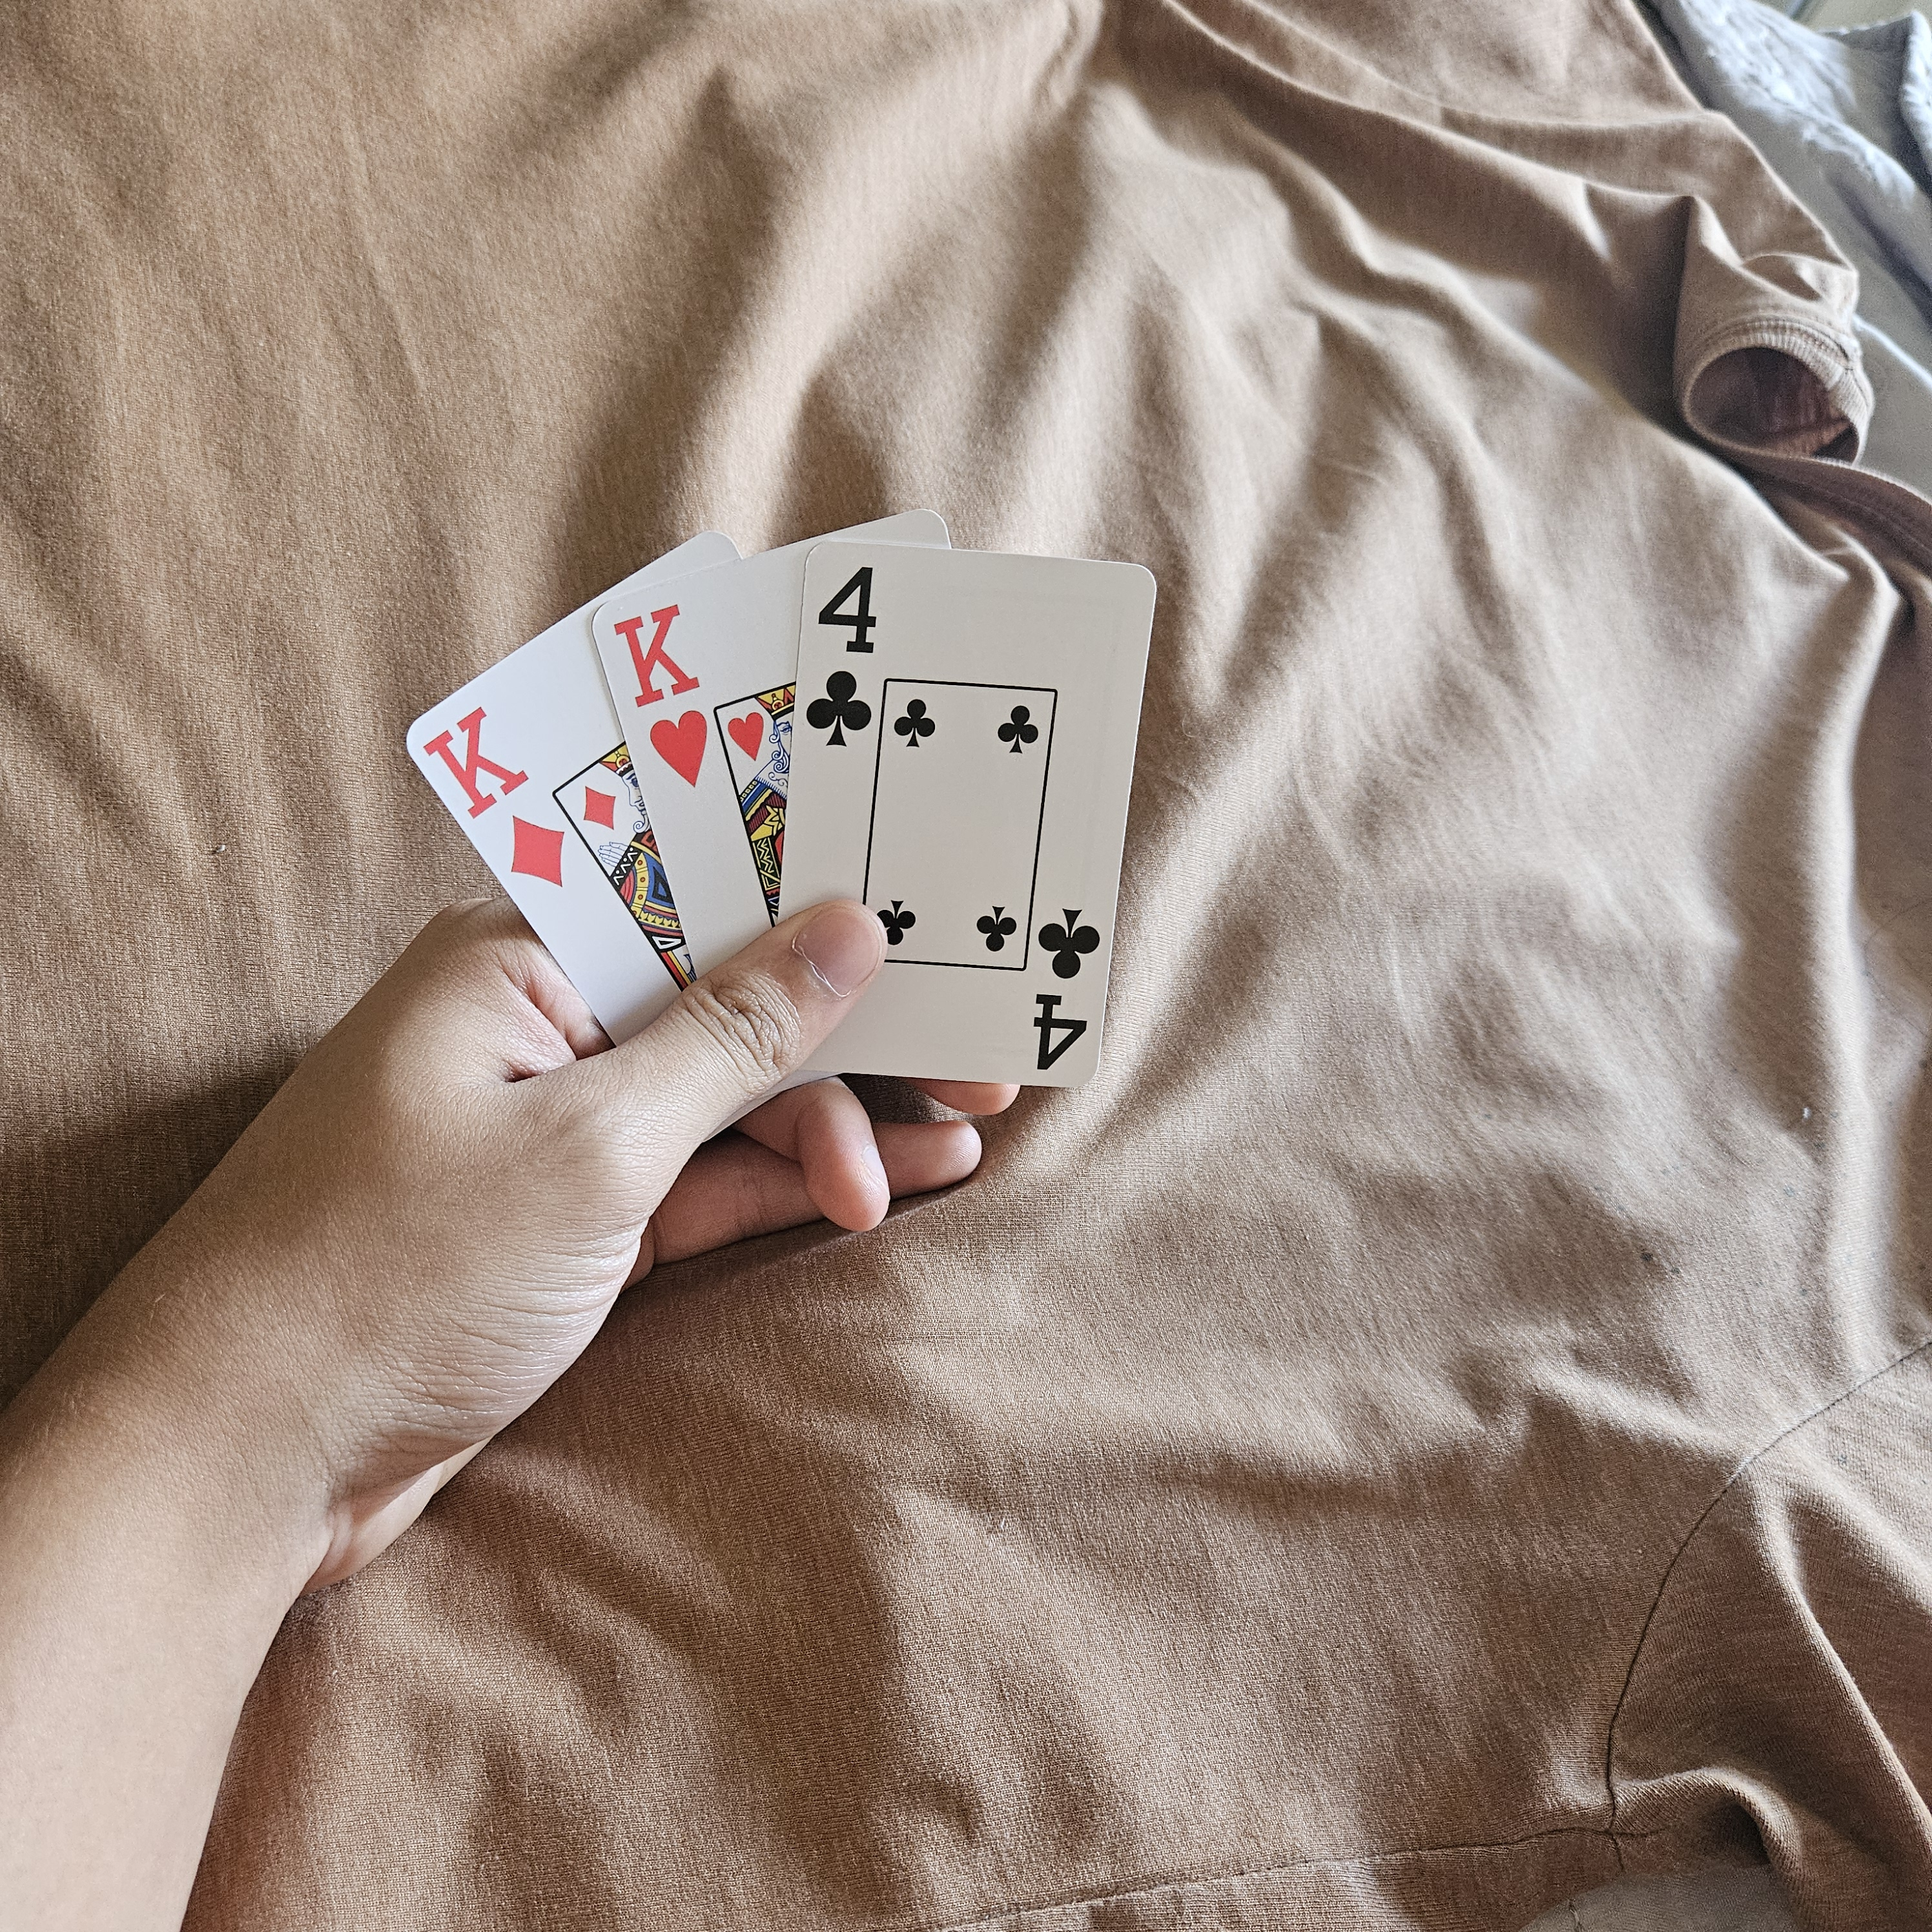4P: (800, 552, 888, 764), (1019, 897, 1108, 1081)
KC: (605, 591, 731, 796)
KO: (412, 690, 577, 893)
